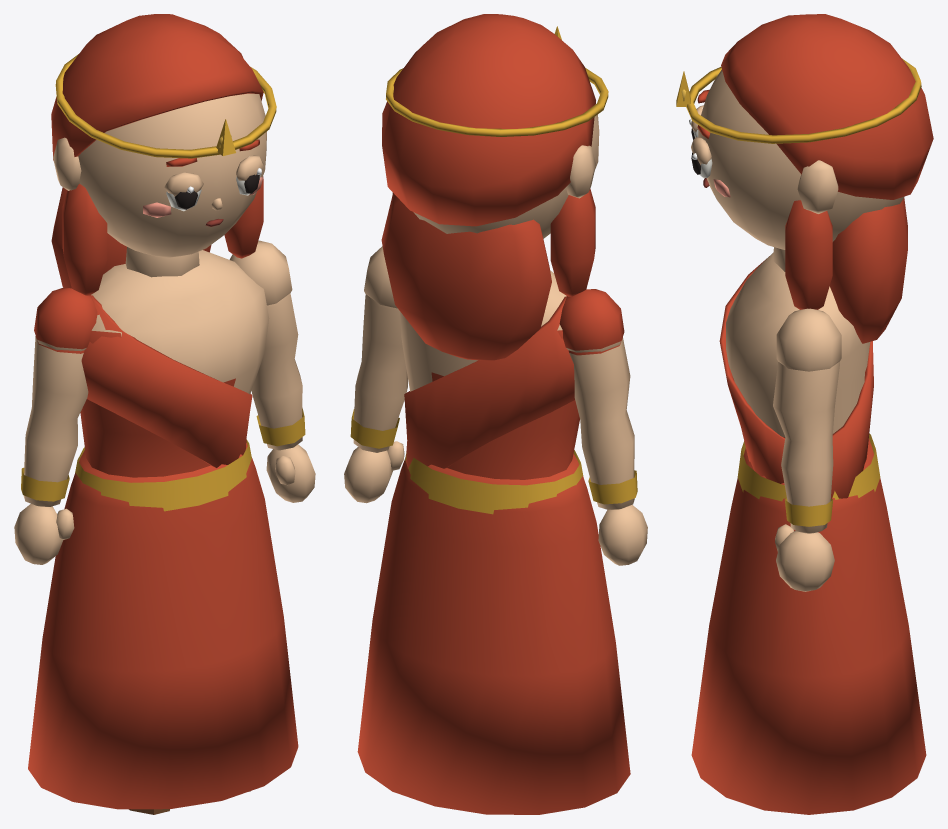
Rendered from kassandra.glb.
3 views of the same model, side by side, from view 1: azimuth 30°, elevation 25°; view 2: azimuth 150°, elevation 25°; view 3: azimuth 270°, elevation 25° (orthographic).
Visible parts, largest first — view 1: huefte, rumpf, haare, kopf, armL, armR, kopfschmuck, augeL, augeR; view 2: huefte, haare, rumpf, armL, armR, kopf, kopfschmuck; view 3: huefte, haare, rumpf, armR, kopf, kopfschmuck, augeR.
Part boxes in pixels (x1=…): huefte: x1=28, y1=443, x2=298, y2=809; rumpf: x1=75, y1=250, x2=269, y2=511; haare: x1=51, y1=14, x2=263, y2=295; kopf: x1=53, y1=93, x2=266, y2=277; armL: x1=14, y1=288, x2=97, y2=564; armR: x1=229, y1=240, x2=315, y2=502; kopfschmuck: x1=55, y1=54, x2=276, y2=158; augeL: x1=164, y1=172, x2=203, y2=211; augeR: x1=236, y1=155, x2=263, y2=195; huefte: x1=357, y1=453, x2=630, y2=814; haare: x1=381, y1=14, x2=595, y2=360; rumpf: x1=400, y1=270, x2=583, y2=514; armL: x1=559, y1=289, x2=647, y2=565; armR: x1=344, y1=246, x2=407, y2=503; kopf: x1=413, y1=114, x2=599, y2=238; kopfschmuck: x1=386, y1=26, x2=608, y2=136; huefte: x1=691, y1=438, x2=926, y2=814; haare: x1=721, y1=14, x2=933, y2=343; rumpf: x1=719, y1=252, x2=880, y2=501; armR: x1=773, y1=308, x2=841, y2=591; kopf: x1=698, y1=69, x2=904, y2=271; kopfschmuck: x1=676, y1=58, x2=921, y2=143; augeR: x1=691, y1=137, x2=712, y2=178.
Size of the model in its own units: 0.9329 by 2.29 by 0.7125.
